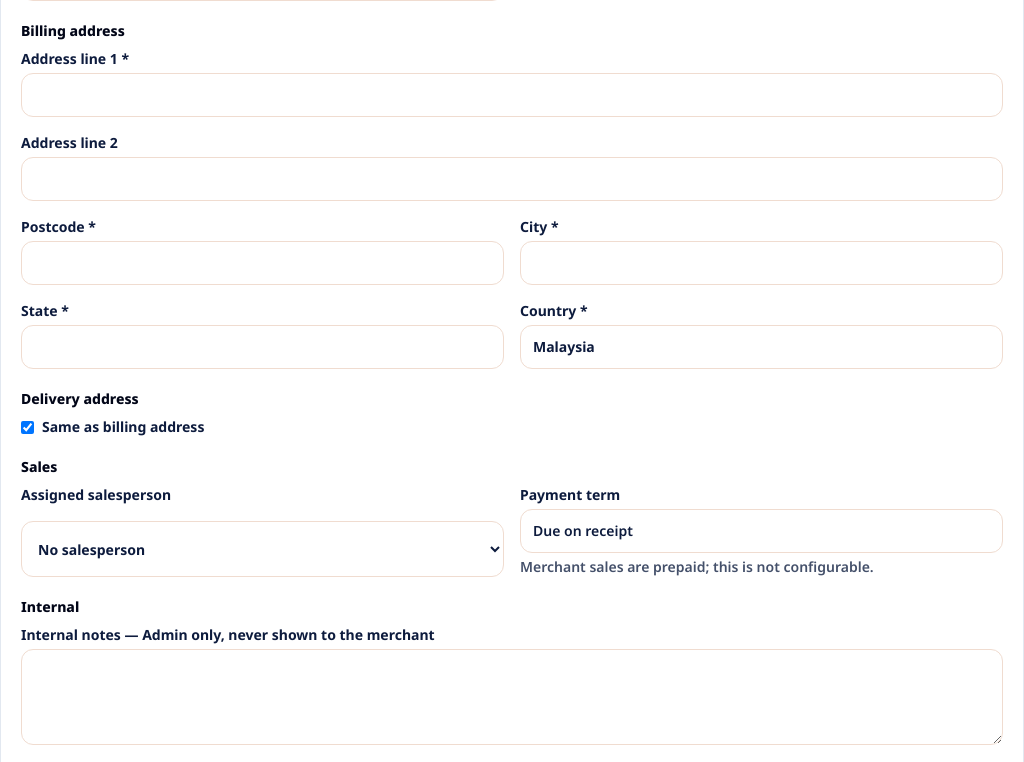
Test: Merchant editor › reveals the delivery address only when it differs from billing
(page scrolled)
Expected: the text "Deliver to" is not shown
Click the checkbox labelled "Same as billing address". click: (28, 427)
box: [21,420,34,434]
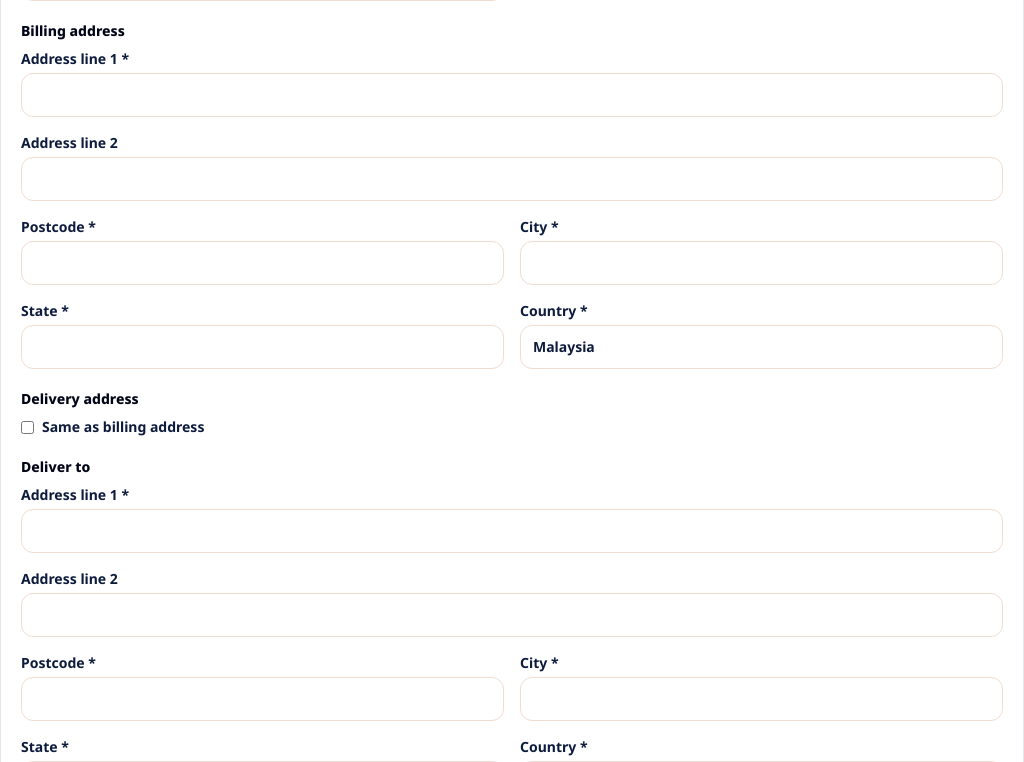
Expected: the text "Deliver to" is shown, [21,457,90,477]
